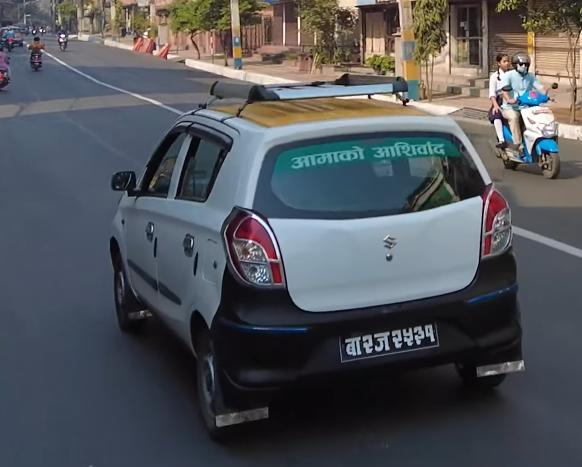scooter: (486, 82, 569, 181)
taxi: (95, 65, 538, 448)
